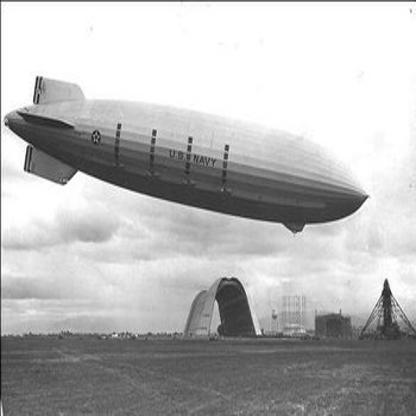Airship: (5, 74, 372, 235)
